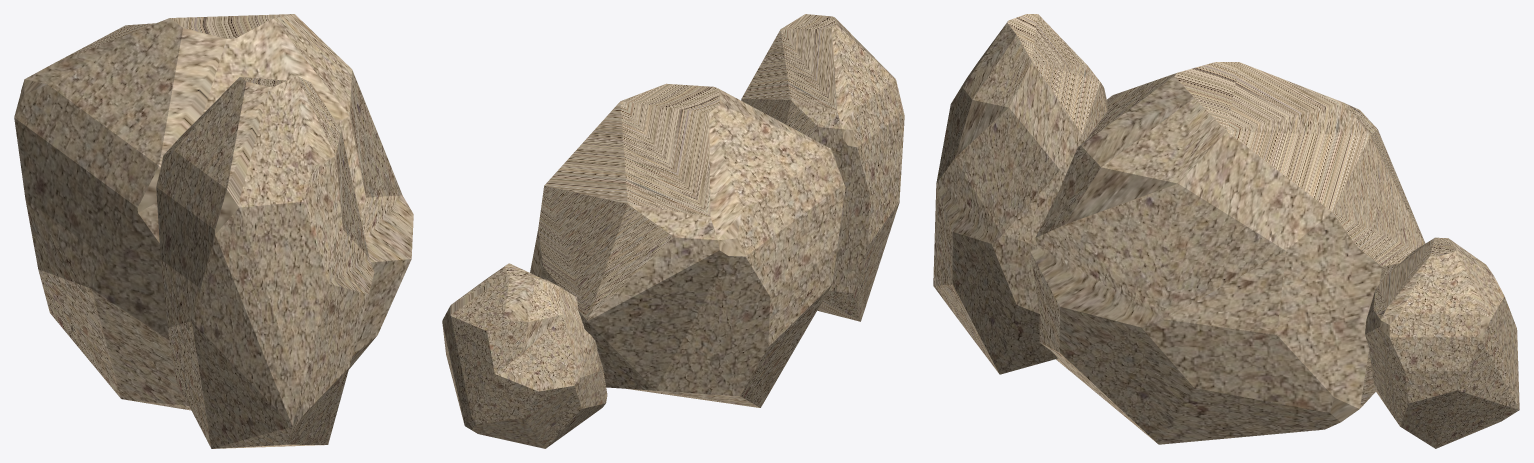
File: Small_Rock.obj
3 views of the same model, side by side, from view 1: azimuth 30°, elevation 25°; view 2: azimuth 150°, elevation 25°; view 3: azimuth 270°, elevation 25° (orthographic). The views are drawn at different scales.
Visible parts, largest first — view 1: Icosphere.001; view 2: Icosphere.001; view 3: Icosphere.001.
Boxes of the visible parts, left/top/right/bottom form: Icosphere.001: left=14, top=14, right=413, bottom=448; Icosphere.001: left=442, top=14, right=904, bottom=448; Icosphere.001: left=933, top=14, right=1519, bottom=448.
Size of the model in its own units: 0.3139 by 0.3729 by 0.5484.
3 materials, 3 textured.
